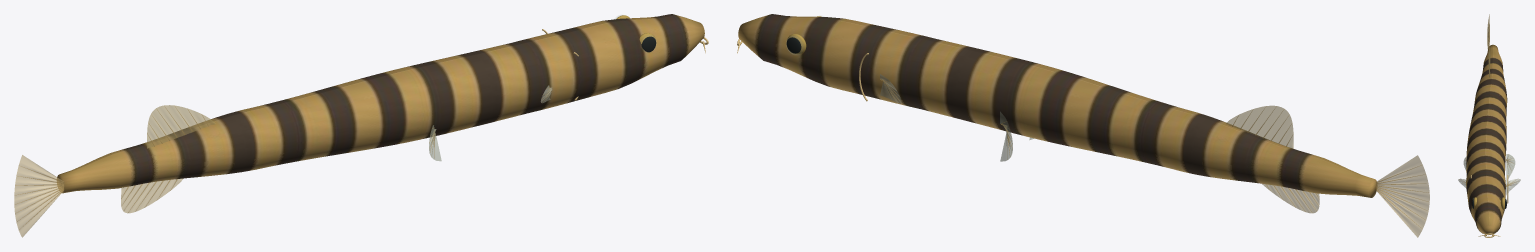
Rendered from kuhli-mobile.glb.
3 views of the same model, side by side, from view 1: azimuth 30°, elevation 25°; view 2: azimuth 150°, elevation 25°; view 3: azimuth 270°, elevation 25° (orthographic). The views are drawn at different scales.
Visible parts, largest first — view 1: skin, tail, dorsal, anal, dorsal-ray; view 2: skin, tail, dorsal, dorsal-ray, anal, pelvic-left; view 3: skin, pelvic-left, pectoral-left, operculum, tail, eye-iris--1, dorsal-ray, dorsal.
Part boxes in pixels (bbox=[...]): skin: bbox=[57, 14, 704, 193]; tail: bbox=[14, 155, 63, 237]; dorsal: bbox=[147, 105, 215, 148]; anal: bbox=[121, 178, 183, 213]; dorsal-ray: bbox=[15, 87, 551, 226]; skin: bbox=[738, 14, 1376, 197]; tail: bbox=[1376, 155, 1429, 237]; dorsal: bbox=[1226, 105, 1293, 148]; dorsal-ray: bbox=[880, 79, 1425, 227]; anal: bbox=[1262, 184, 1319, 213]; pelvic-left: bbox=[1000, 111, 1033, 161]; skin: bbox=[1466, 44, 1507, 234]; pelvic-left: bbox=[1463, 154, 1515, 182]; pectoral-left: bbox=[1458, 178, 1520, 195]; operculum: bbox=[1470, 175, 1508, 237]; tail: bbox=[1487, 14, 1489, 48]; eye-iris--1: bbox=[1473, 197, 1505, 209]; dorsal-ray: bbox=[1461, 39, 1516, 186]; dorsal: bbox=[1488, 44, 1490, 77].
Size of the model in its own units: 0.6002 by 0.0908 by 0.0814.
11 materials, 1 textured.
